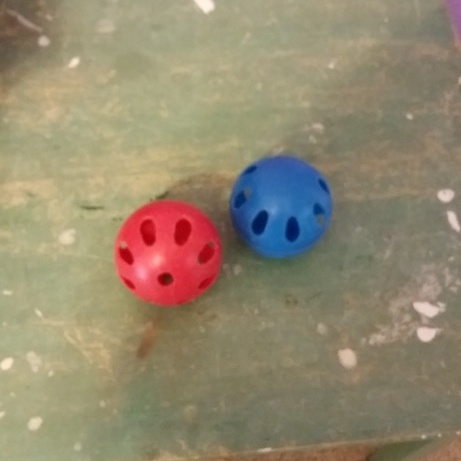ball: (112, 195, 225, 307), (227, 151, 335, 260)
